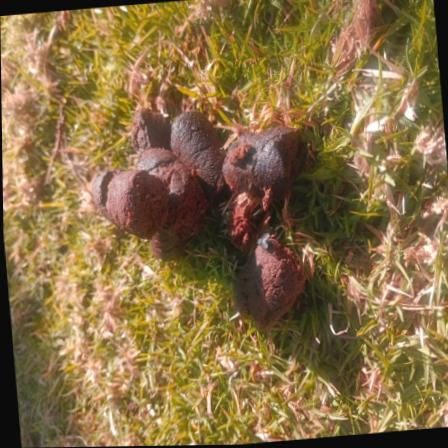dog-poop: (81, 65, 337, 360)
